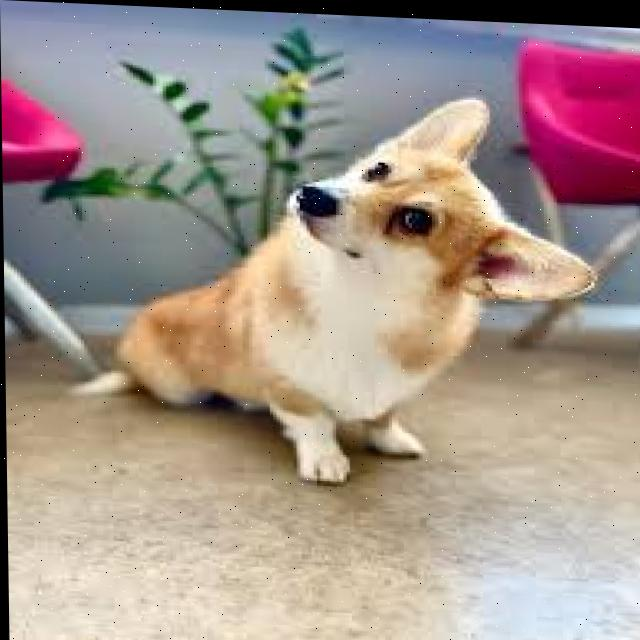CORGI: (84, 80, 603, 495)
